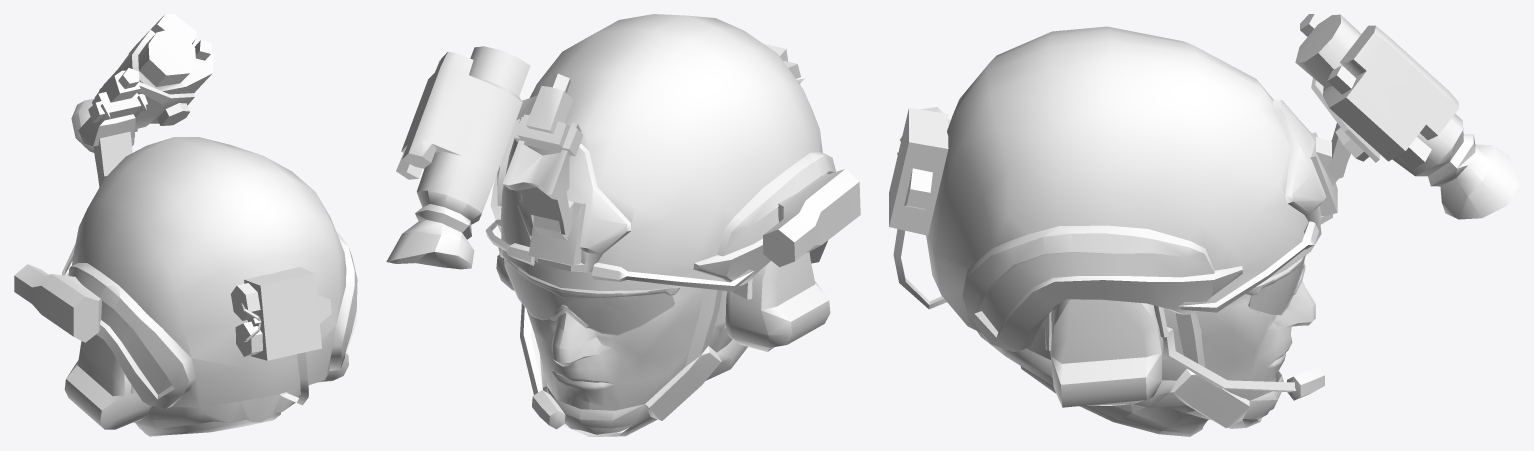
The model's file is stf_head.glb.
3 views of the same model, side by side, from view 1: azimuth 30°, elevation 25°; view 2: azimuth 150°, elevation 25°; view 3: azimuth 270°, elevation 25° (orthographic). The views are drawn at different scales.
Visible parts, largest first — view 1: helm_STF, nvg_STF, head_STF; view 2: helm_STF, nvg_STF, head_STF, glass_STF; view 3: helm_STF, nvg_STF, head_STF, glass_STF.
Part boxes in pixels (box(x1,y1,x2,y2)): helm_STF: box(14, 137, 357, 429); nvg_STF: box(71, 14, 213, 187); head_STF: box(135, 406, 280, 436); helm_STF: box(485, 14, 860, 436); nvg_STF: box(386, 46, 588, 271); head_STF: box(527, 287, 732, 434); glass_STF: box(498, 247, 680, 335); helm_STF: box(889, 26, 1337, 428); nvg_STF: box(1295, 14, 1519, 225); head_STF: box(1020, 280, 1315, 436); glass_STF: box(1246, 255, 1305, 315).
Bounding box in the file's own units: 27.4 × 33.07 × 43.06.
Materials: 4 (4 with a texture image).
